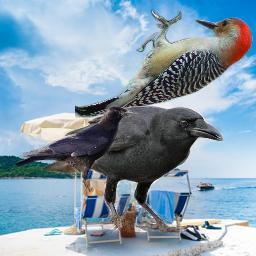Crow: (41, 106, 223, 233), (13, 105, 138, 194)
Woodpecker: (75, 9, 255, 121)
